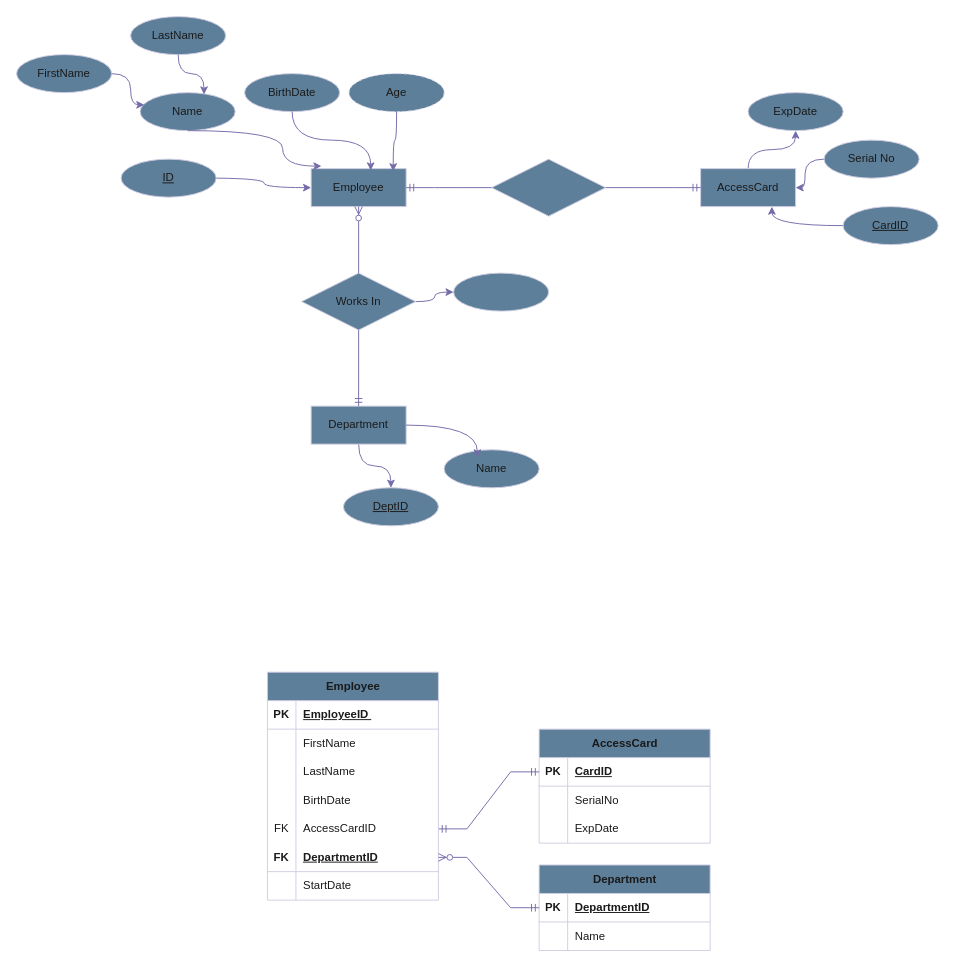
The diagram is 955 pixels wide and 967 high, and some of its shapes have lost their labels. The shapes that lost their labels are listed below. From the top down, each one's centre as x and y in pixels, then its label:
[548,187]: Has
[501,291]: Start Date
